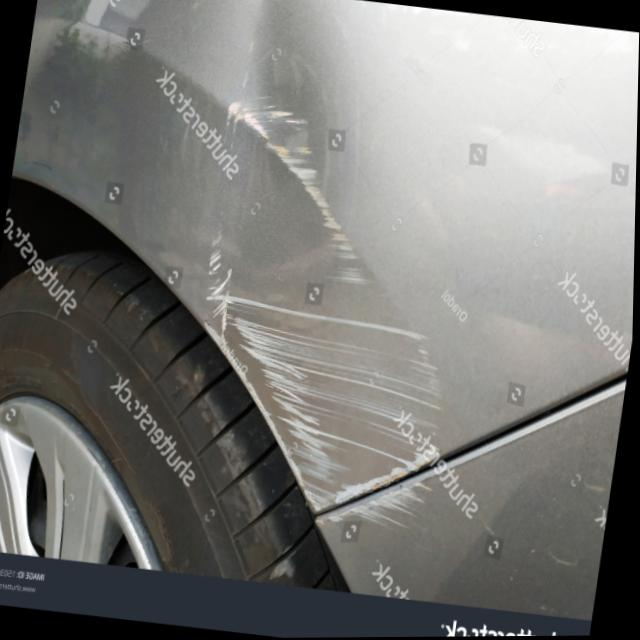Scratch: (151, 93, 498, 559)
